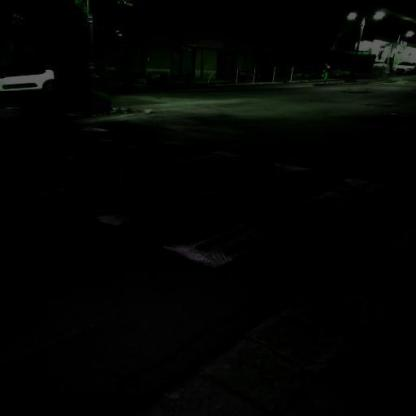crosswalk: (76, 158, 400, 273)
